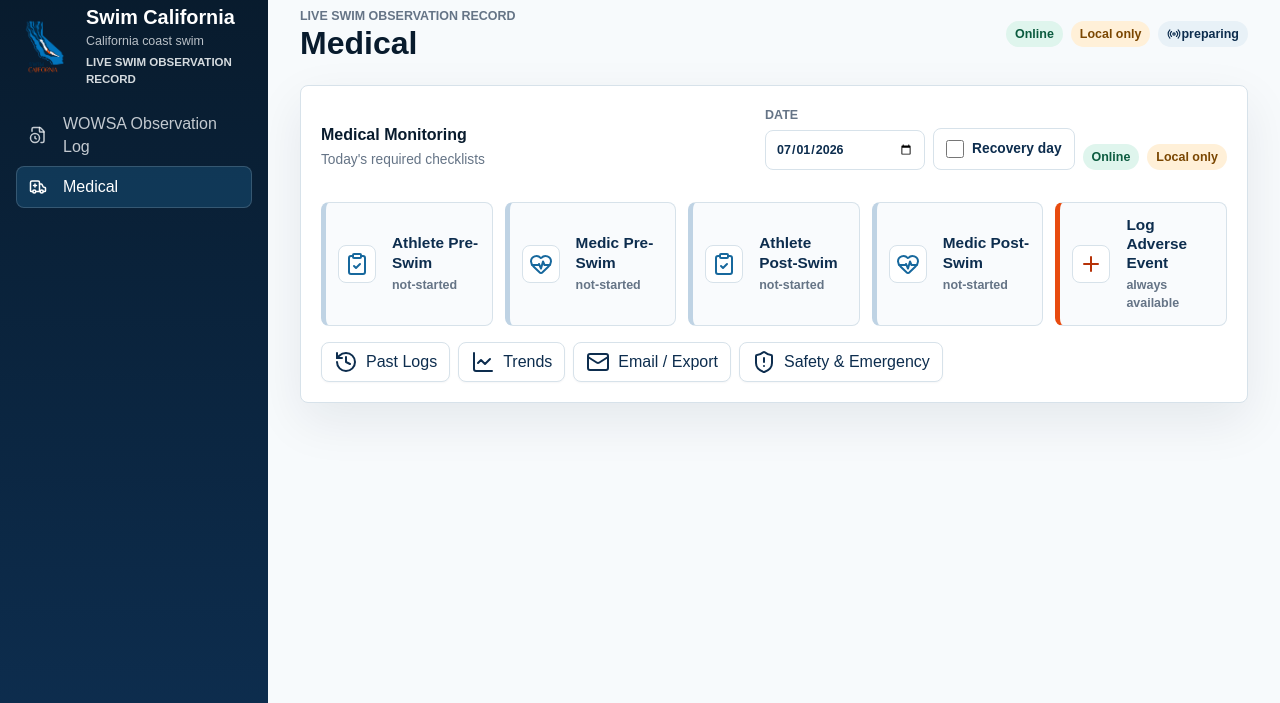
observer-first swim flows › logs adverse events from the permanent medical event form
The width and height of the screenshot is (1280, 703).
Click the button "Log Adverse Event always available" at (1141, 264), box [1055,202,1227,326]
(page scrolled)
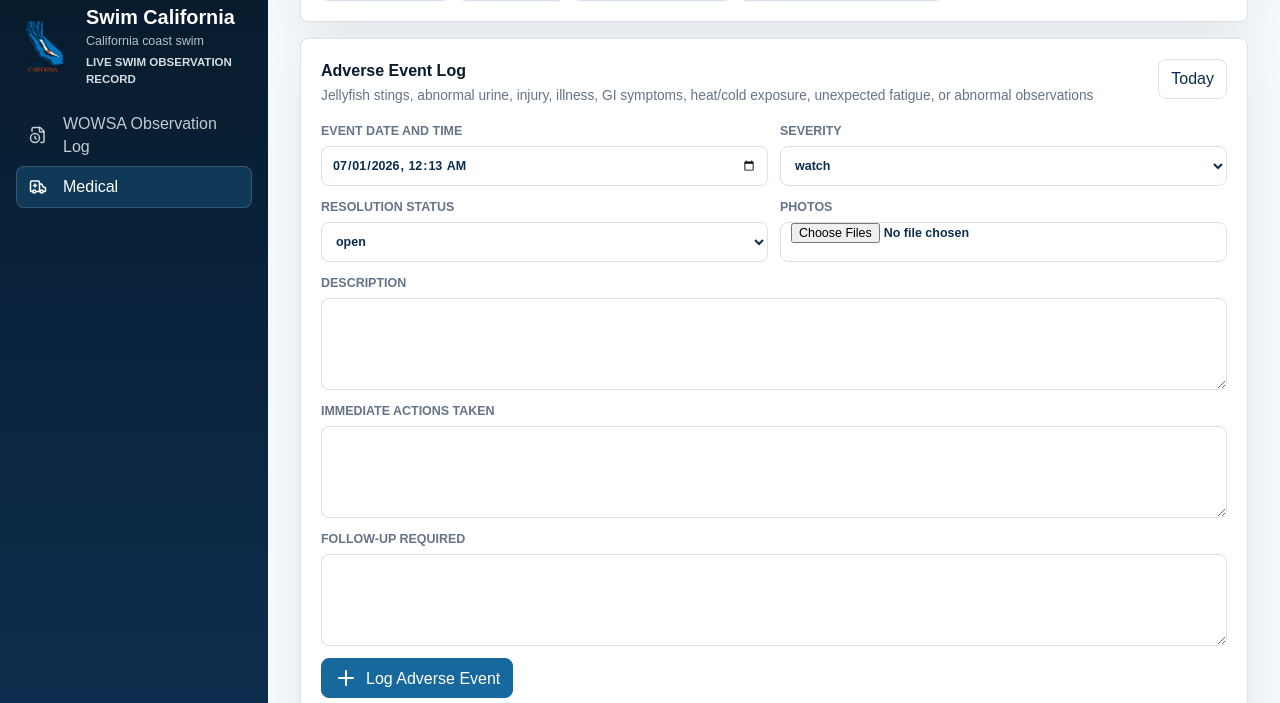
Type "Jellyfish sting on left arm" into the text box labelled "Description" at (774, 344), box [321,298,1227,390]
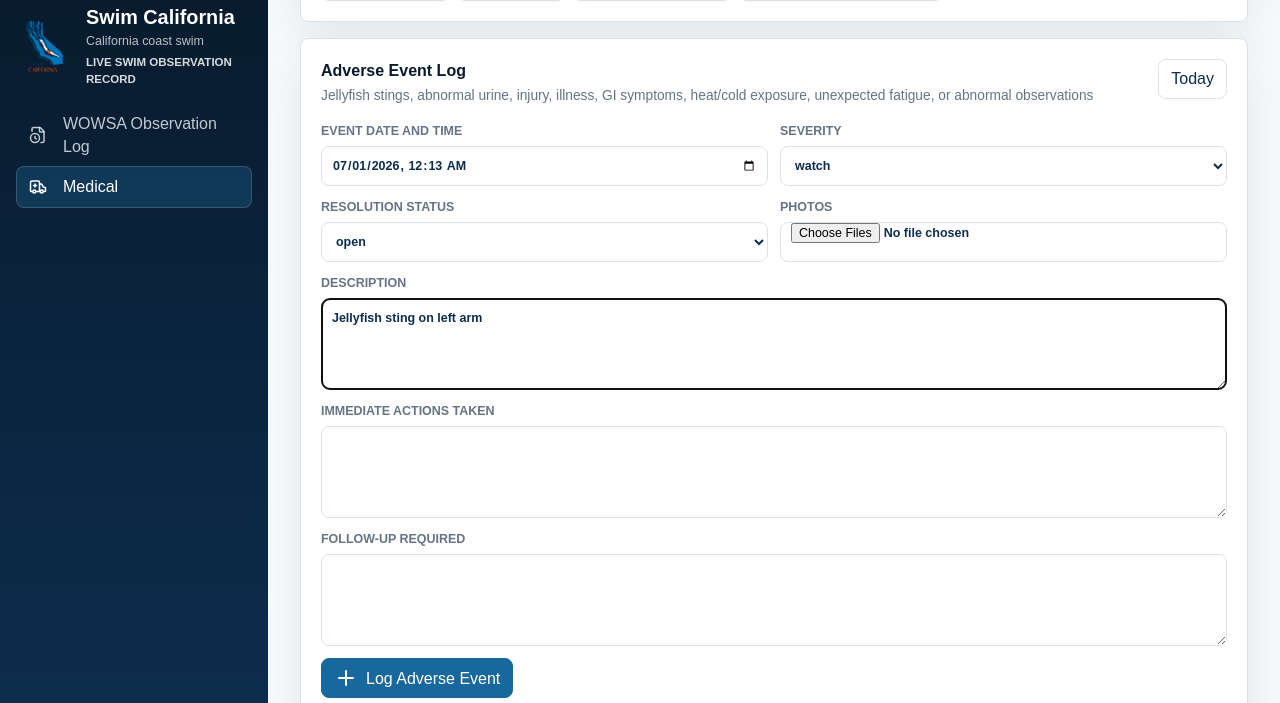
Type "Rinsed and monitored." into the text box labelled "Immediate actions taken" at (774, 472), box [321,426,1227,518]
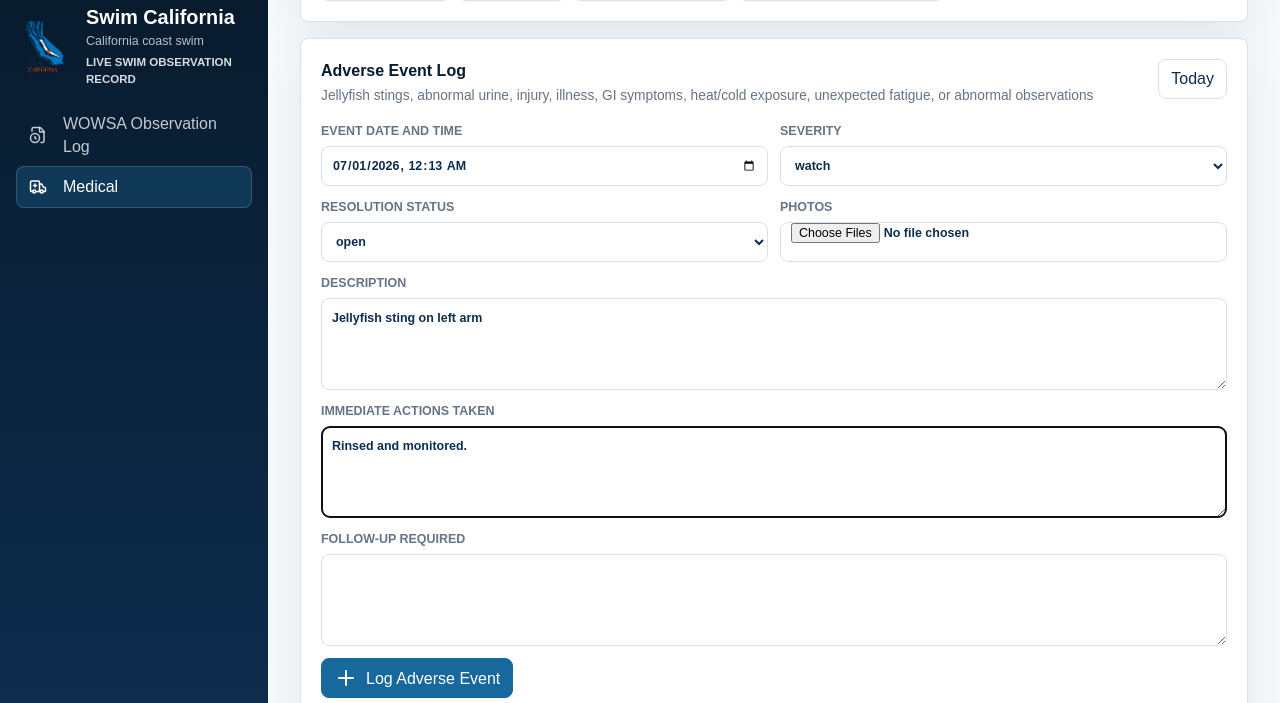
Click the button "Log Adverse Event" at (417, 678), box [321,658,513,698]
(page scrolled)
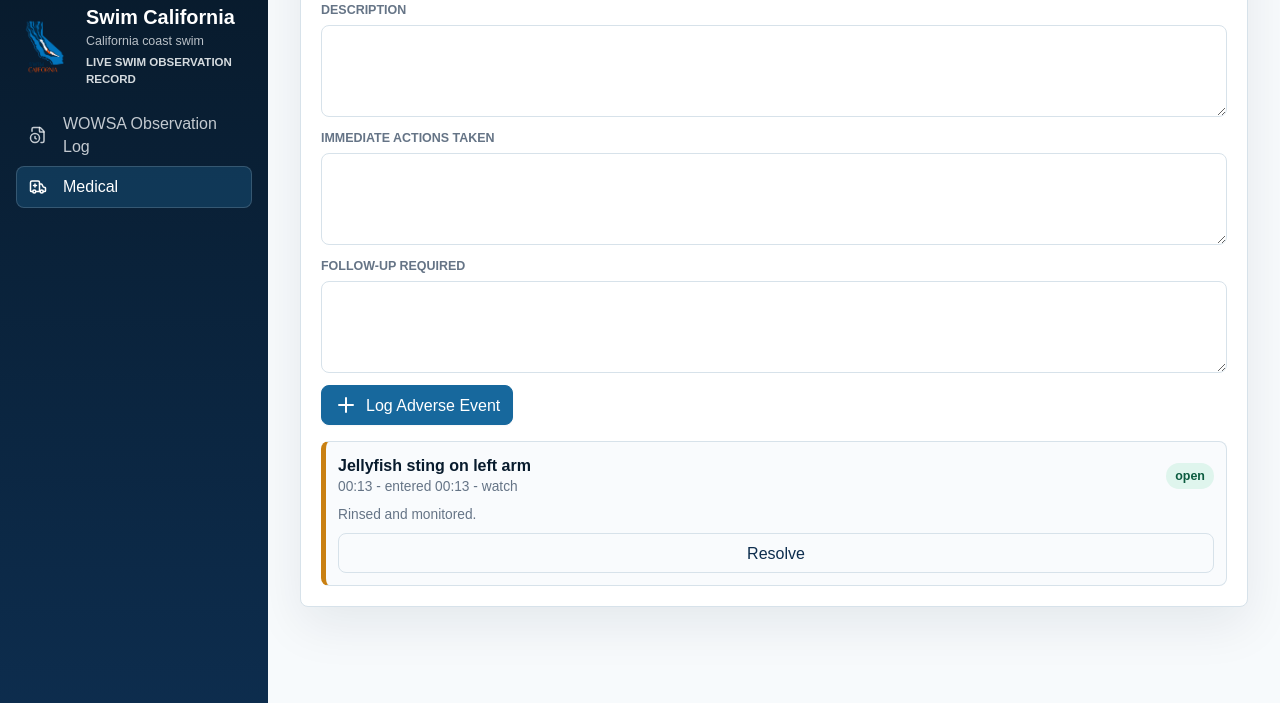
Now the text "Jellyfish sting on left arm" is shown, box [338,457,531,474]
